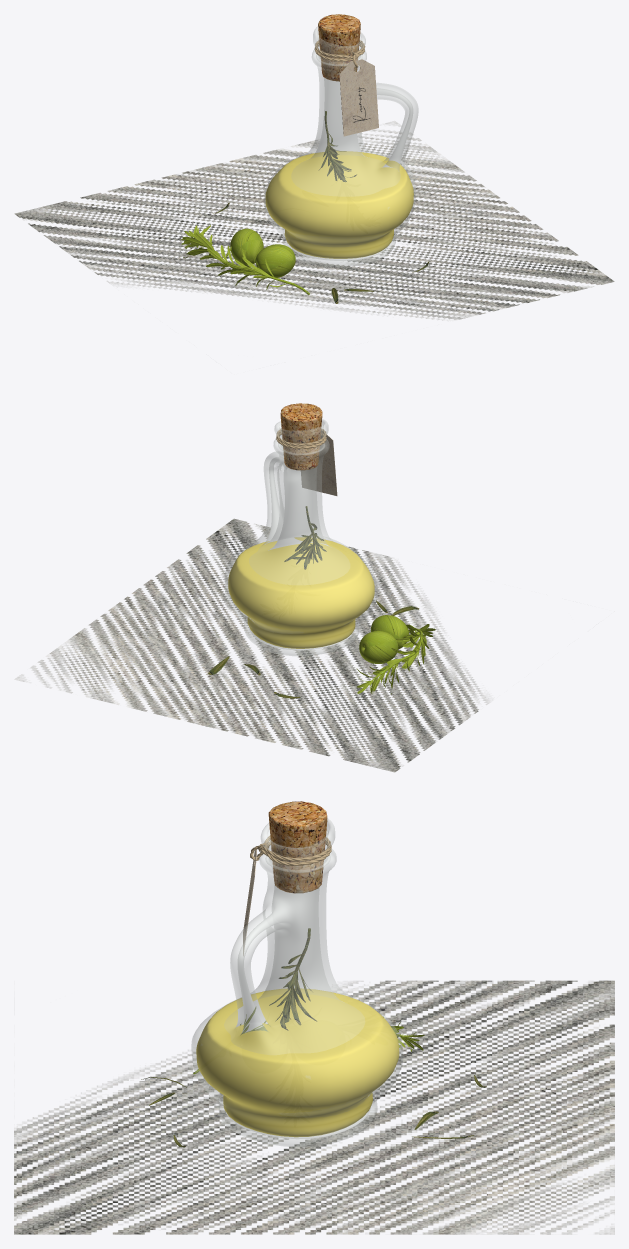
Rendered from huile-olive.gltf.
3 views of the same model, one above another, from view 1: azimuth 30°, elevation 25°; view 2: azimuth 150°, elevation 25°; view 3: azimuth 270°, elevation 25° (orthographic). The views are drawn at different scales.
Parts seen in each view (by area): view 1: _gltfNode_12, _gltfNode_0, _gltfNode_2, _gltfNode_10, _gltfNode_4, _gltfNode_6, _gltfNode_16, _gltfNode_18; view 2: _gltfNode_12, _gltfNode_0, _gltfNode_2, _gltfNode_4, _gltfNode_6, _gltfNode_16, _gltfNode_10, _gltfNode_18; view 3: _gltfNode_12, _gltfNode_0, _gltfNode_2, _gltfNode_4, _gltfNode_18, _gltfNode_8.
Boxes of the visible parts, x1,y1,x2,y2 form: _gltfNode_12: [14, 121, 614, 320]; _gltfNode_0: [264, 26, 418, 266]; _gltfNode_2: [265, 151, 413, 258]; _gltfNode_10: [339, 59, 378, 136]; _gltfNode_4: [318, 14, 360, 81]; _gltfNode_6: [230, 228, 295, 278]; _gltfNode_16: [181, 225, 309, 295]; _gltfNode_18: [319, 111, 356, 182]; _gltfNode_12: [15, 518, 492, 772]; _gltfNode_0: [225, 419, 377, 655]; _gltfNode_2: [228, 537, 374, 648]; _gltfNode_4: [280, 403, 322, 470]; _gltfNode_6: [359, 615, 409, 663]; _gltfNode_16: [356, 624, 435, 698]; _gltfNode_10: [301, 431, 337, 495]; _gltfNode_18: [284, 506, 326, 569]; _gltfNode_12: [14, 980, 614, 1234]; _gltfNode_0: [191, 818, 402, 1146]; _gltfNode_2: [196, 988, 399, 1137]; _gltfNode_4: [268, 801, 327, 893]; _gltfNode_18: [269, 928, 316, 1030]; _gltfNode_8: [250, 836, 331, 865].
Bounding box in the file's own units: 5.7 × 3.29 × 5.7.
Materials: 7 (4 with a texture image).
